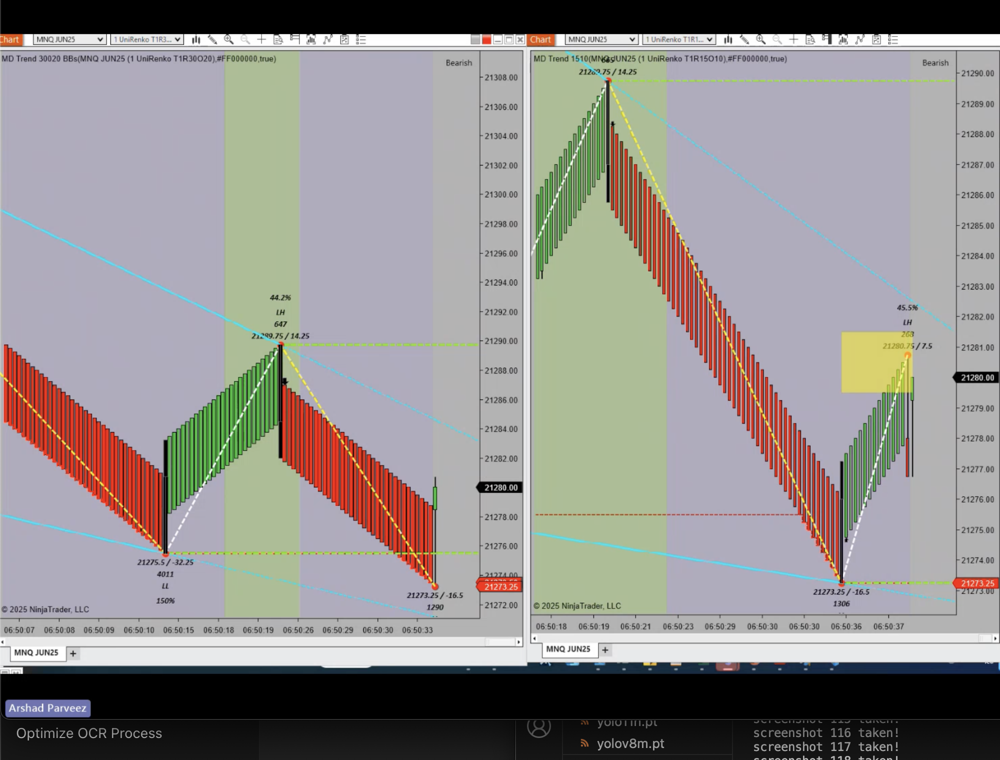LH: (896, 313, 920, 331), (273, 305, 294, 323)
LL: (154, 578, 176, 595)
